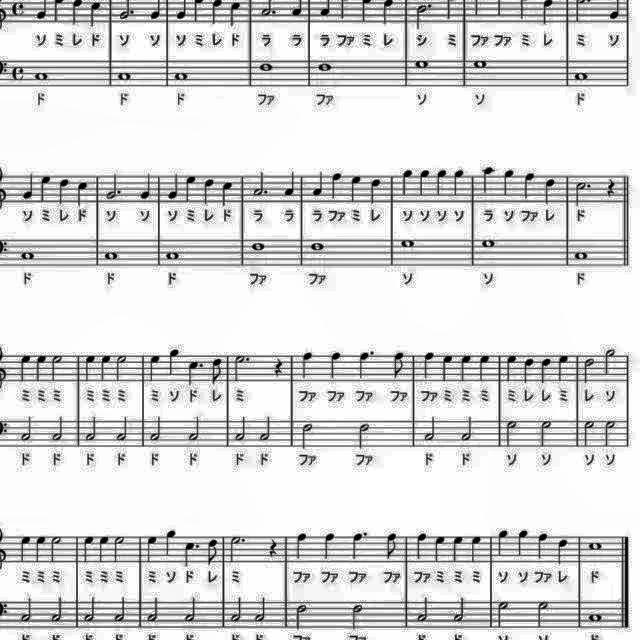Eighth-note: (382, 530, 400, 564), (389, 347, 407, 381), (203, 536, 220, 568), (210, 355, 227, 385)
Full-note: (586, 610, 608, 626), (17, 246, 39, 262), (572, 245, 592, 262), (30, 68, 51, 84), (478, 236, 499, 252), (308, 238, 328, 254), (572, 68, 592, 84), (172, 68, 192, 84), (248, 238, 268, 254), (399, 236, 419, 252), (102, 248, 121, 264), (164, 247, 183, 263), (115, 68, 134, 84), (257, 61, 277, 75), (586, 538, 606, 552), (314, 60, 334, 74), (412, 57, 432, 71), (472, 57, 491, 71)
Half-dot: (231, 350, 253, 386), (226, 532, 246, 568), (102, 169, 124, 201), (572, 178, 592, 210), (250, 168, 270, 198)
Half-note: (600, 344, 620, 378), (532, 598, 552, 630), (349, 602, 367, 634), (502, 418, 520, 450), (355, 420, 373, 452), (292, 600, 310, 632), (601, 418, 619, 450), (536, 418, 554, 450), (45, 534, 63, 566), (109, 534, 127, 566), (297, 421, 315, 451), (495, 600, 513, 630), (187, 413, 205, 443), (181, 596, 199, 626), (252, 594, 268, 626), (228, 596, 244, 628), (146, 596, 162, 628), (48, 594, 64, 626), (582, 354, 598, 386), (82, 596, 98, 628), (51, 351, 67, 383), (116, 352, 132, 384), (582, 417, 598, 448), (422, 413, 438, 443), (20, 596, 36, 626), (18, 413, 34, 443), (458, 413, 474, 443), (416, 595, 432, 625), (450, 593, 466, 623), (48, 413, 64, 443), (148, 413, 164, 443), (112, 596, 128, 626), (231, 414, 247, 444), (260, 413, 276, 443), (114, 413, 130, 443), (85, 413, 101, 442)
Quarter-dot: (178, 538, 202, 572), (348, 526, 370, 562), (355, 349, 377, 383), (184, 356, 206, 388)
Quarter-note: (318, 528, 338, 562), (291, 528, 309, 562), (326, 348, 344, 382), (520, 169, 538, 203), (479, 164, 497, 196), (142, 534, 160, 566), (367, 174, 385, 206), (296, 350, 314, 382), (412, 529, 430, 561), (466, 534, 484, 566), (553, 536, 571, 568), (163, 526, 181, 558), (494, 528, 512, 560), (539, 174, 557, 206), (556, 352, 572, 386), (449, 532, 466, 564), (429, 532, 446, 564), (499, 166, 516, 198), (56, 175, 74, 205), (532, 530, 550, 560), (417, 167, 433, 200), (439, 352, 456, 383), (218, 176, 234, 208), (202, 174, 218, 206), (398, 166, 414, 198), (96, 534, 112, 566), (138, 170, 154, 202), (20, 170, 36, 202), (536, 354, 552, 386), (32, 534, 48, 566), (328, 170, 344, 202), (515, 526, 531, 558), (33, 350, 49, 382), (79, 532, 95, 564), (18, 352, 34, 384), (432, 167, 448, 199), (420, 348, 436, 380), (182, 172, 198, 204), (166, 346, 182, 378), (449, 168, 466, 198), (520, 357, 536, 388), (74, 177, 90, 207), (166, 171, 182, 201), (282, 168, 298, 198), (348, 177, 364, 207), (478, 352, 494, 382), (146, 351, 162, 381), (457, 352, 473, 382), (98, 352, 114, 382), (82, 353, 98, 383), (502, 352, 518, 382), (310, 170, 326, 198), (18, 532, 32, 564), (39, 172, 53, 204)
Quarter-rest: (602, 173, 618, 199), (271, 354, 287, 378), (266, 536, 282, 560)
